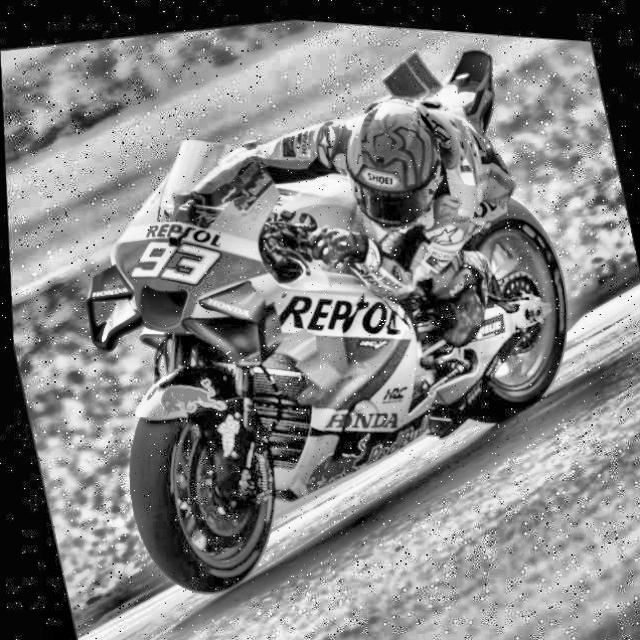Helmet: (326, 75, 460, 240)
